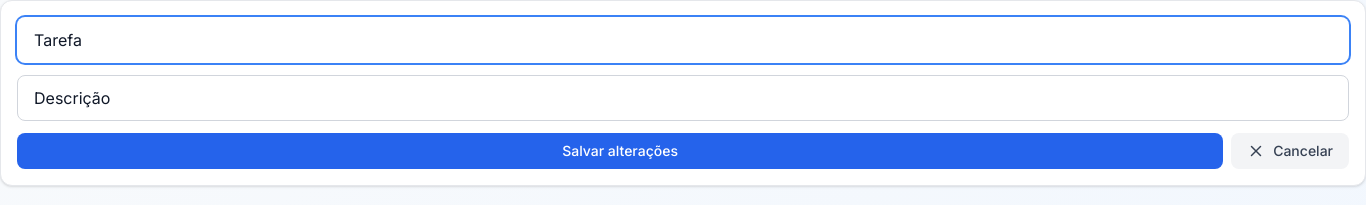
Test: TaskForm › Cancelamento › deve limpar os campos ao cancelar
Click the button "Cancelar" at (1290, 151), box x1=1231 y1=133 x2=1349 y2=169
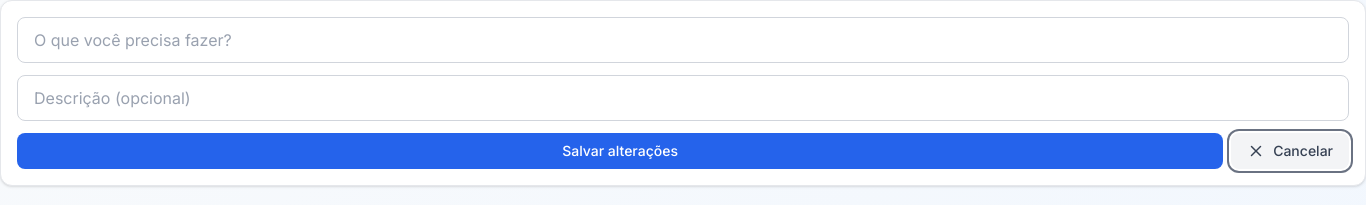
Now the field named "Título da tarefa" is empty, box x1=17 y1=17 x2=1349 y2=63
Now the field named "Descrição da tarefa" is empty, box x1=17 y1=75 x2=1349 y2=121
